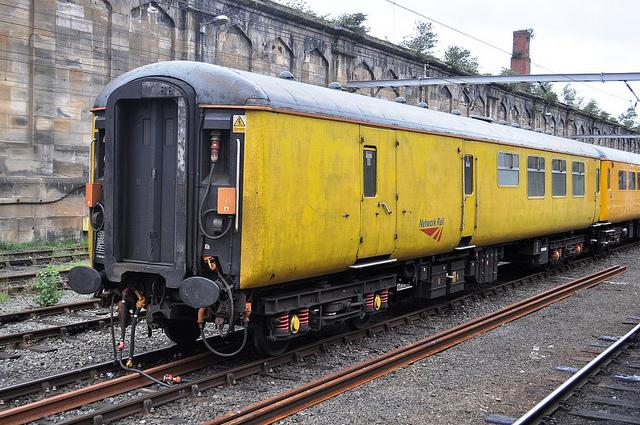Train: (67, 62, 640, 375)
